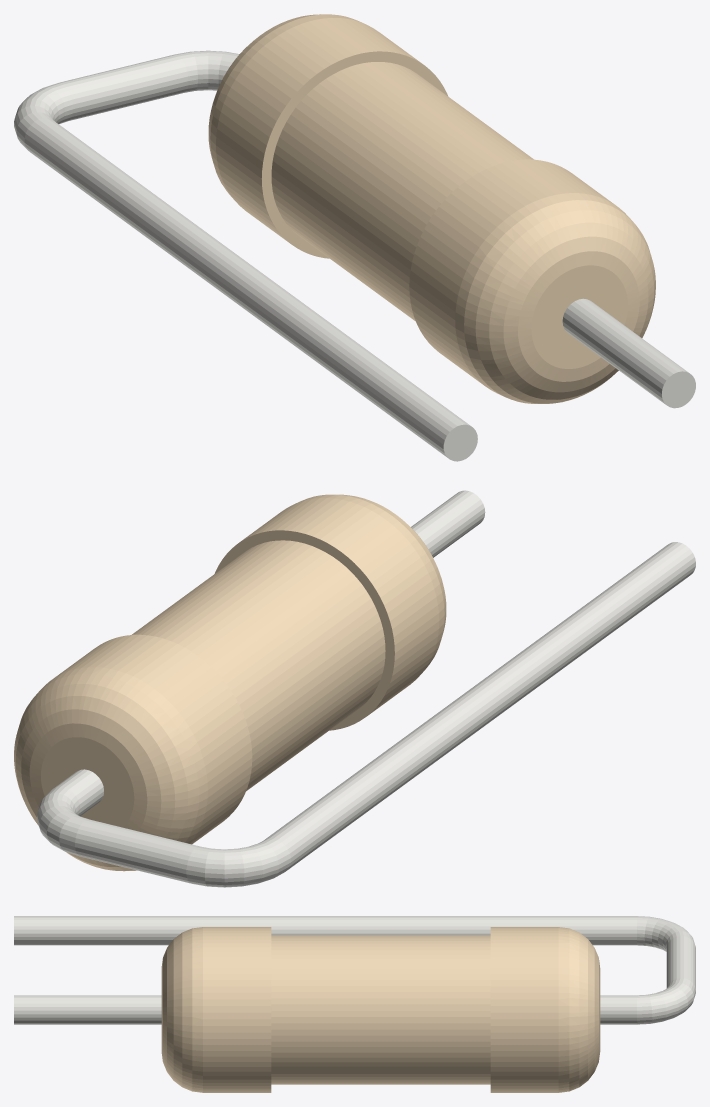
The model's file is R_Axial_DIN0414_L11.9mm_D4.5mm_P5.08mm_Vertical.glb.
3 renders of one model, top to bottom at view 1: azimuth 30°, elevation 25°; view 2: azimuth 150°, elevation 25°; view 3: azimuth 270°, elevation 25°, orthographic. The views are drawn at different scales.
Parts seen in each view (by area): view 1: Shape_IndexedFaceSet.004, Shape_IndexedFaceSet.001, Shape_IndexedFaceSet.015, Shape_IndexedFaceSet, Shape_IndexedFaceSet.008, Shape_IndexedFaceSet.003, Shape_IndexedFaceSet.005, Shape_IndexedFaceSet.013, Shape_IndexedFaceSet.006, Shape_IndexedFaceSet.009, Shape_IndexedFaceSet.014, Shape_IndexedFaceSet.012 (+2 smaller); view 2: Shape_IndexedFaceSet.004, Shape_IndexedFaceSet.009, Shape_IndexedFaceSet.015, Shape_IndexedFaceSet, Shape_IndexedFaceSet.008, Shape_IndexedFaceSet.010, Shape_IndexedFaceSet.013, Shape_IndexedFaceSet.014, Shape_IndexedFaceSet.002, Shape_IndexedFaceSet.005, Shape_IndexedFaceSet.012, Shape_IndexedFaceSet.001 (+1 smaller); view 3: Shape_IndexedFaceSet.004, Shape_IndexedFaceSet.015, Shape_IndexedFaceSet, Shape_IndexedFaceSet.008, Shape_IndexedFaceSet.009, Shape_IndexedFaceSet.001, Shape_IndexedFaceSet.005, Shape_IndexedFaceSet.012, Shape_IndexedFaceSet.013, Shape_IndexedFaceSet.014, Shape_IndexedFaceSet.011.
Part boxes in pixels (x1=…): Shape_IndexedFaceSet.004: x1=271, y1=62, x2=533, y2=321; Shape_IndexedFaceSet.001: x1=455, y1=193, x2=655, y2=403; Shape_IndexedFaceSet.015: x1=24, y1=118, x2=471, y2=458; Shape_IndexedFaceSet: x1=409, y1=159, x2=614, y2=384; Shape_IndexedFaceSet.008: x1=216, y1=18, x2=421, y2=243; Shape_IndexedFaceSet.003: x1=531, y1=265, x2=627, y2=368; Shape_IndexedFaceSet.005: x1=562, y1=298, x2=688, y2=404; Shape_IndexedFaceSet.013: x1=60, y1=54, x2=188, y2=120; Shape_IndexedFaceSet.006: x1=261, y1=51, x2=448, y2=258; Shape_IndexedFaceSet.009: x1=208, y1=14, x2=363, y2=199; Shape_IndexedFaceSet.014: x1=14, y1=82, x2=73, y2=149; Shape_IndexedFaceSet.012: x1=175, y1=50, x2=239, y2=92; Shape_IndexedFaceSet.004: x1=132, y1=540, x2=385, y2=791; Shape_IndexedFaceSet.009: x1=14, y1=667, x2=207, y2=871; Shape_IndexedFaceSet.015: x1=265, y1=542, x2=695, y2=870; Shape_IndexedFaceSet: x1=239, y1=498, x2=439, y2=715; Shape_IndexedFaceSet.008: x1=53, y1=634, x2=252, y2=844; Shape_IndexedFaceSet.010: x1=41, y1=737, x2=134, y2=827; Shape_IndexedFaceSet.013: x1=75, y1=819, x2=199, y2=883; Shape_IndexedFaceSet.014: x1=186, y1=838, x2=290, y2=887; Shape_IndexedFaceSet.002: x1=214, y1=530, x2=394, y2=730; Shape_IndexedFaceSet.005: x1=411, y1=490, x2=485, y2=557; Shape_IndexedFaceSet.012: x1=37, y1=787, x2=88, y2=855; Shape_IndexedFaceSet.001: x1=295, y1=494, x2=446, y2=672; Shape_IndexedFaceSet.004: x1=271, y1=935, x2=490, y2=1084; Shape_IndexedFaceSet.015: x1=14, y1=916, x2=636, y2=945; Shape_IndexedFaceSet: x1=203, y1=927, x2=271, y2=1092; Shape_IndexedFaceSet.008: x1=490, y1=927, x2=558, y2=1092; Shape_IndexedFaceSet.009: x1=558, y1=927, x2=600, y2=1092; Shape_IndexedFaceSet.001: x1=161, y1=927, x2=202, y2=1092; Shape_IndexedFaceSet.005: x1=14, y1=995, x2=161, y2=1024; Shape_IndexedFaceSet.012: x1=637, y1=978, x2=695, y2=1024; Shape_IndexedFaceSet.013: x1=666, y1=936, x2=695, y2=988; Shape_IndexedFaceSet.014: x1=637, y1=916, x2=694, y2=951; Shape_IndexedFaceSet.011: x1=600, y1=995, x2=636, y2=1024.
Size of the model in its own units: 3.04 by 1.77 by 7.28.
